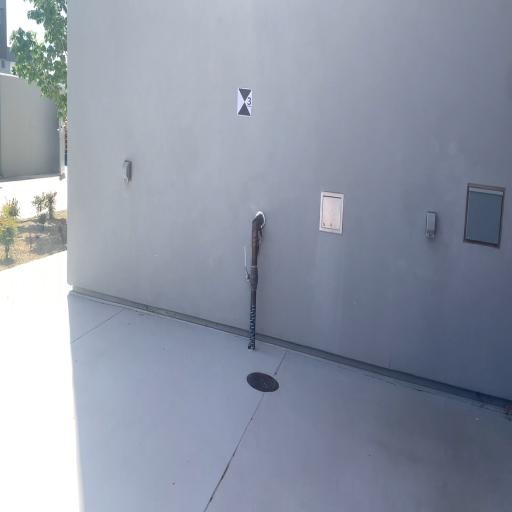target3: (237, 87, 253, 117)
